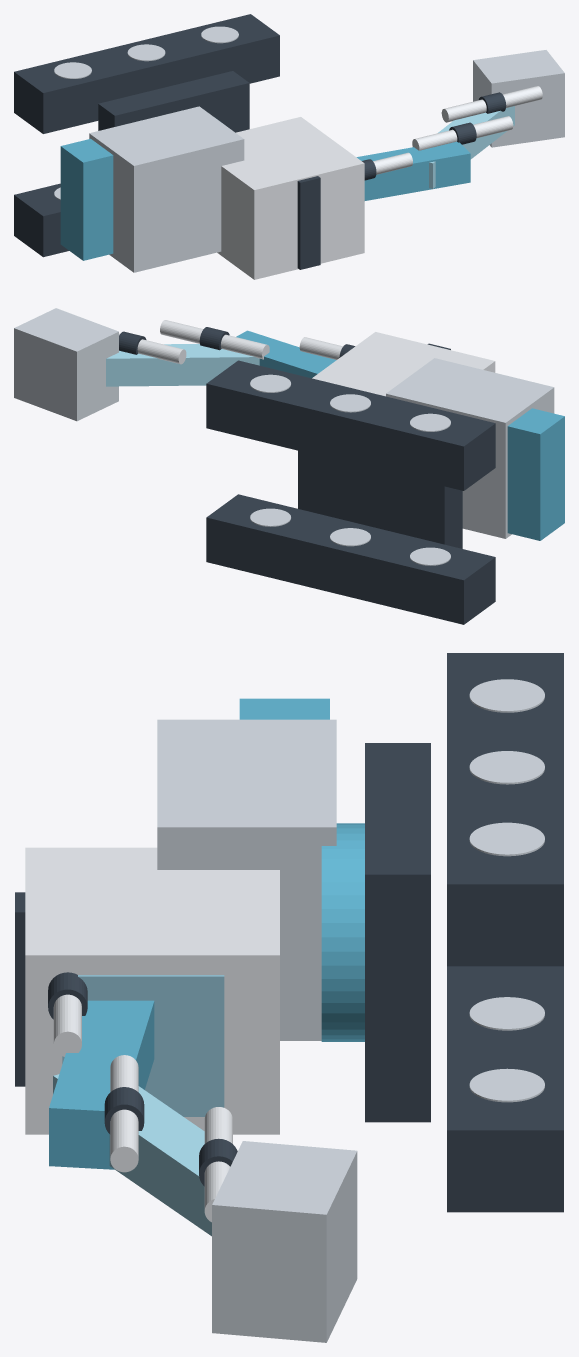
File: excavator.glb
The picture shows the model from 3 angles, top to bottom: view 1: azimuth 30°, elevation 25°; view 2: azimuth 150°, elevation 25°; view 3: azimuth 270°, elevation 25°; orthographic projection. The views are drawn at different scales.
Parts seen in each view (by area): view 1: counterweight, cabin, track_right, rear_cyan, bucket, undercarriage, boom, track_left, cab_roof, stick, hydraulic_2, hydraulic_1 (+6 smaller); view 2: track_left, track_right, counterweight, undercarriage, bucket, rear_cyan, cabin, stick, boom, hydraulic_1, hydraulic_2, hydraulic (+8 smaller); view 3: cabin, counterweight, track_right, bucket, undercarriage, track_left, side_glass, boom, swing_base, stick, hydraulic_1, cab_roof (+11 smaller).
Part boxes in pixels (bbox=[...]): counterweight: bbox=[89, 106, 244, 272]; cabin: bbox=[217, 117, 364, 279]; track_right: bbox=[14, 14, 279, 133]; rear_cyan: bbox=[60, 138, 113, 260]; bucket: bbox=[473, 50, 564, 147]; undercarriage: bbox=[98, 71, 249, 132]; boom: bbox=[356, 141, 470, 200]; track_left: bbox=[14, 183, 68, 257]; cab_roof: bbox=[297, 176, 320, 269]; stick: bbox=[429, 106, 514, 188]; hydraulic_2: bbox=[441, 86, 542, 122]; hydraulic_1: bbox=[412, 116, 513, 150]; track_left: bbox=[206, 494, 495, 624]; track_right: bbox=[206, 360, 495, 490]; counterweight: bbox=[386, 358, 554, 538]; undercarriage: bbox=[298, 450, 462, 548]; bucket: bbox=[14, 308, 118, 421]; rear_cyan: bbox=[507, 408, 564, 540]; cabin: bbox=[312, 332, 495, 396]; stick: bbox=[106, 344, 259, 386]; boom: bbox=[236, 330, 336, 378]; hydraulic_1: bbox=[160, 320, 269, 359]; hydraulic_2: bbox=[119, 333, 186, 364]; hydraulic: bbox=[299, 337, 342, 359]; cabin: bbox=[25, 847, 279, 1134]; counterweight: bbox=[157, 719, 336, 1040]; track_right: bbox=[447, 653, 563, 966]; bucket: bbox=[212, 1141, 357, 1342]; undercarriage: bbox=[365, 743, 430, 1122]; track_left: bbox=[447, 966, 563, 1212]; side_glass: bbox=[62, 975, 224, 1116]; boom: bbox=[49, 1000, 154, 1169]; swing_base: bbox=[321, 823, 364, 1041]; stick: bbox=[53, 1074, 211, 1236]; hydraulic_1: bbox=[110, 1055, 138, 1172]; cab_roof: bbox=[15, 892, 25, 1086].
Size of the model in its own units: 5.94 by 1.94 by 2.91.
